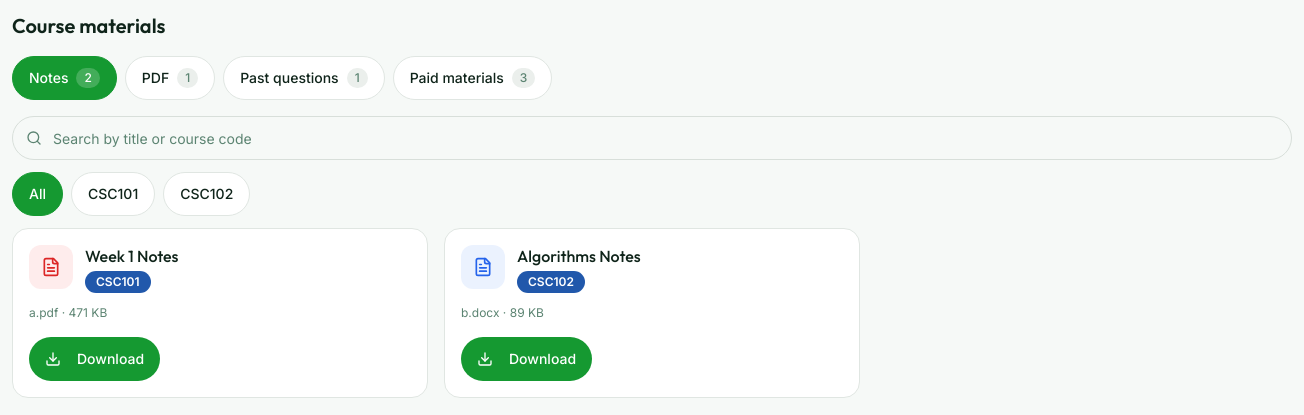
Test: student library › sections with counts, search, free downloads
This screenshot has width=1304, height=415.
Expected: the heading "Week 1 Notes" is shown, [85,246,178,266]
Expected: the tab "Notes 2" is shown, [12,56,117,100]
// search narrows the list
Type "algorithms" into the field with placeholder "Search by title or course code".
click(652, 138); type("algorithms")  # box [12,116,1292,160]
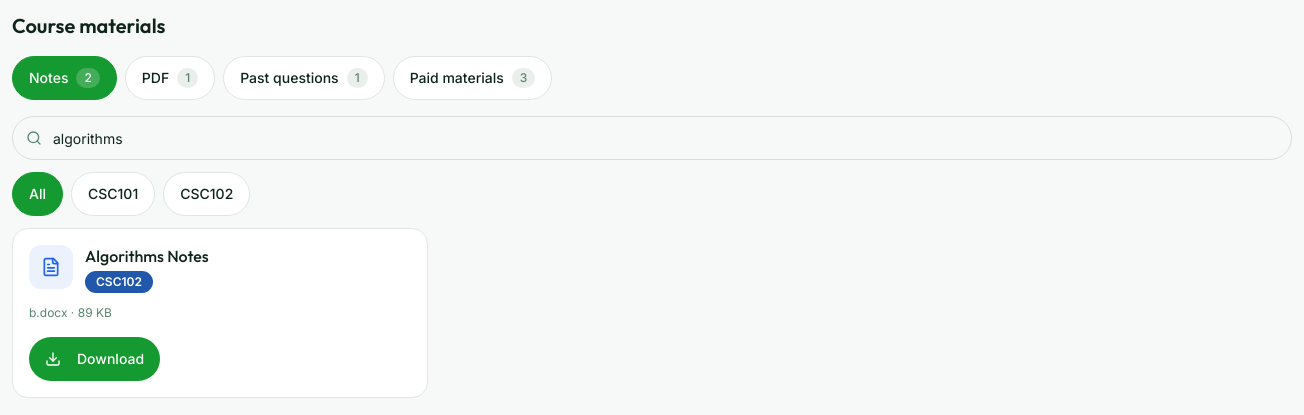
Expected: the heading "Algorithms Notes" is shown, [85,246,209,266]
Expected: the heading "Week 1 Notes" is gone
// PDF tab shows only PDFs
Click the tab "PDF 1".
click(170, 78)  # box [125,56,215,100]
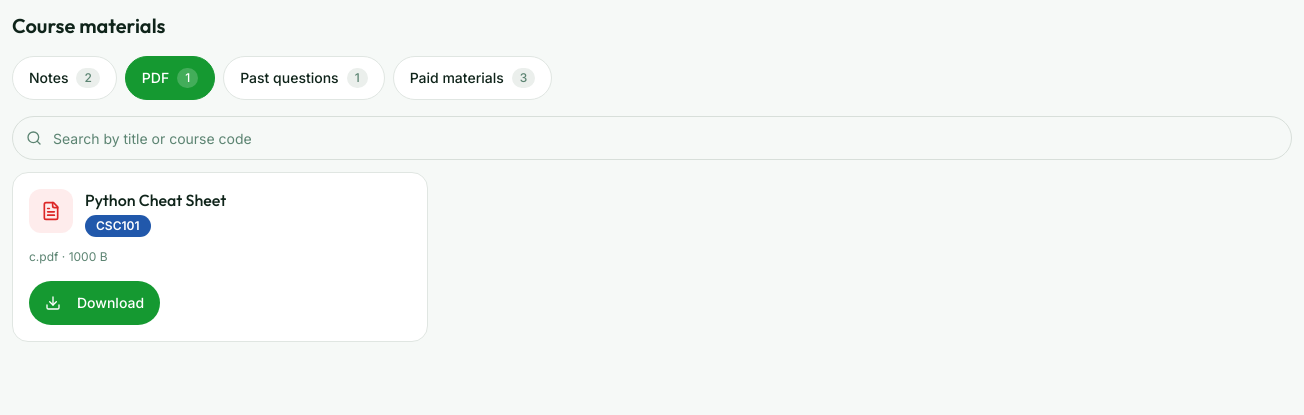
Expected: the heading "Python Cheat Sheet" is shown, [85,190,226,210]
Expected: the heading "Algorithms Notes" is gone
